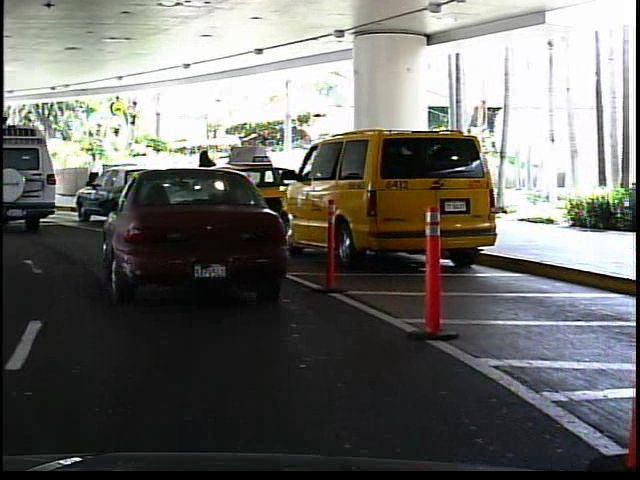person: (193, 143, 225, 208), (228, 140, 254, 206), (83, 147, 106, 201), (18, 156, 37, 197)
